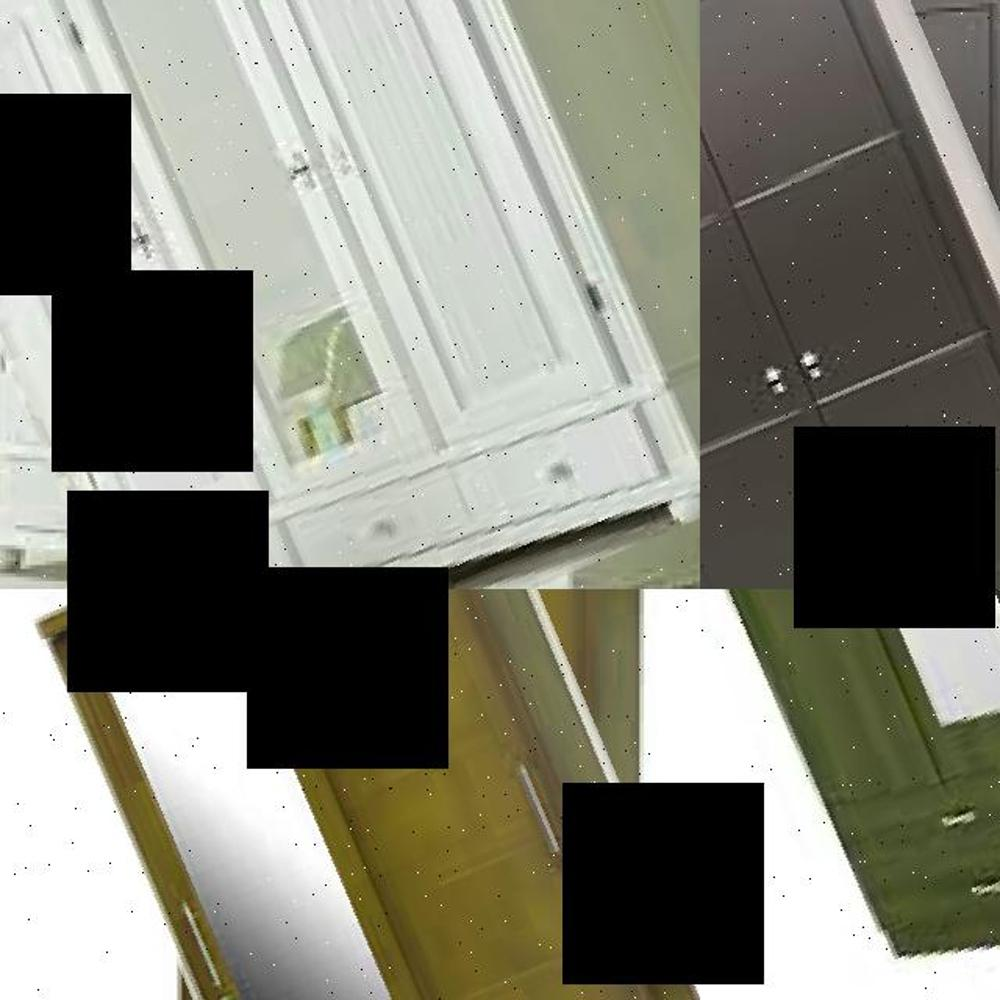cabinet: (0, 0, 700, 589), (98, 589, 700, 1000), (700, 0, 1000, 589), (700, 589, 1000, 1000)
